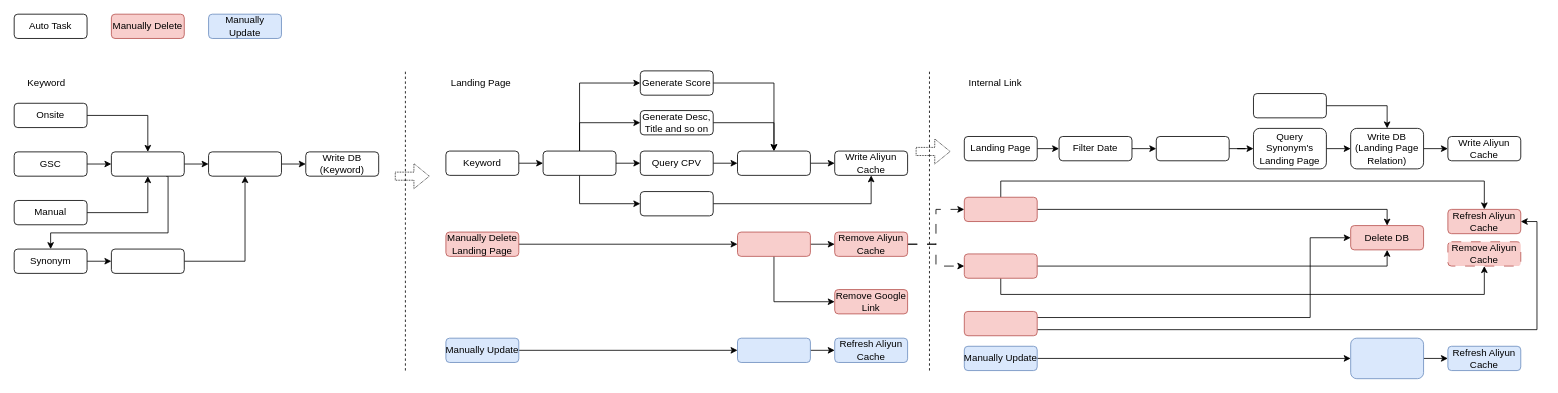
The diagram is 1558 pixels wide and 393 high, and some of its shapes have lost their labels. The shapes that lost their labels are listed below. From the top down, each one's box as (x1, y1, x2, y2) in pixels, then its label:
(1253, 93, 1326, 118): Strategy Import
(111, 151, 184, 176): Synonym by Semrush
(208, 151, 281, 176): Add Trends and so on
(542, 150, 616, 175): Filter Product Quantity
(737, 150, 810, 175): Write DB (Landing Page)
(1155, 136, 1229, 161): Query Keyword Synonyms
(639, 191, 713, 216): Query Product List
(963, 196, 1037, 222): Query Refered Landing Page
(111, 248, 184, 273): Synonym by Origin Keyword
(737, 231, 810, 256): Delete DB (Landing Page)
(963, 253, 1037, 278): Query Related Landing Page
(963, 311, 1037, 336): Maually Delete Relation
(737, 337, 810, 362): Update DB (Landing Page)
(1350, 337, 1424, 379): Update DB (Landing Page Relation)
